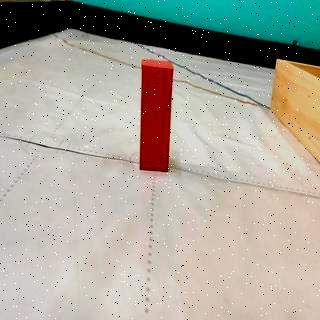redbox: (140, 56, 174, 174)
